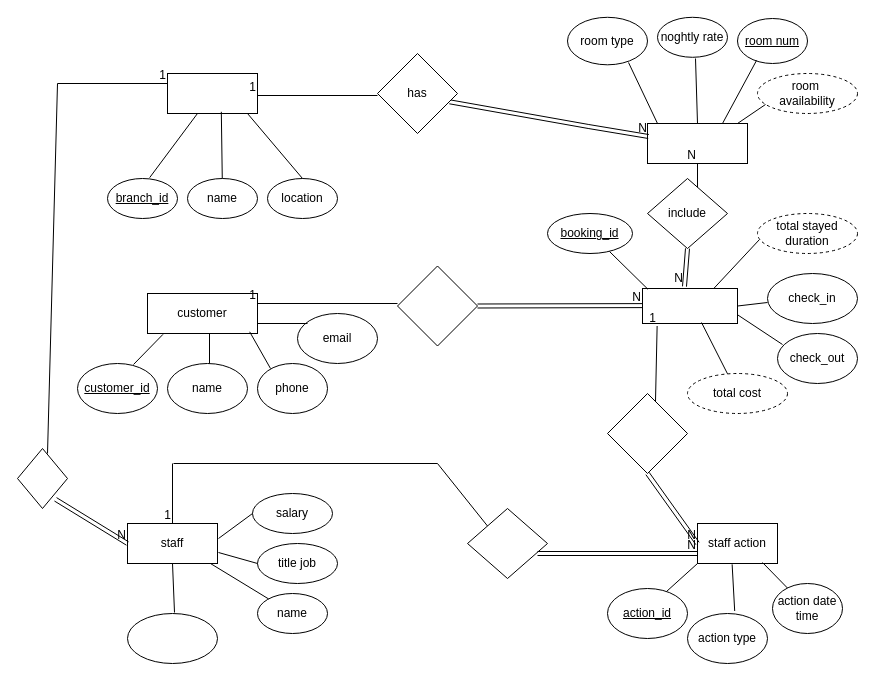
This 875x682 diagram has some shape labels left out. Each missing label, with the centre of its shape:
booking: the point at 690,306
branch: the point at 212,93
handles: the point at 507,543
has staff: the point at 42,478
makes: the point at 437,305
performs: the point at 647,433
room: the point at 697,143
staff_id: the point at 172,638
